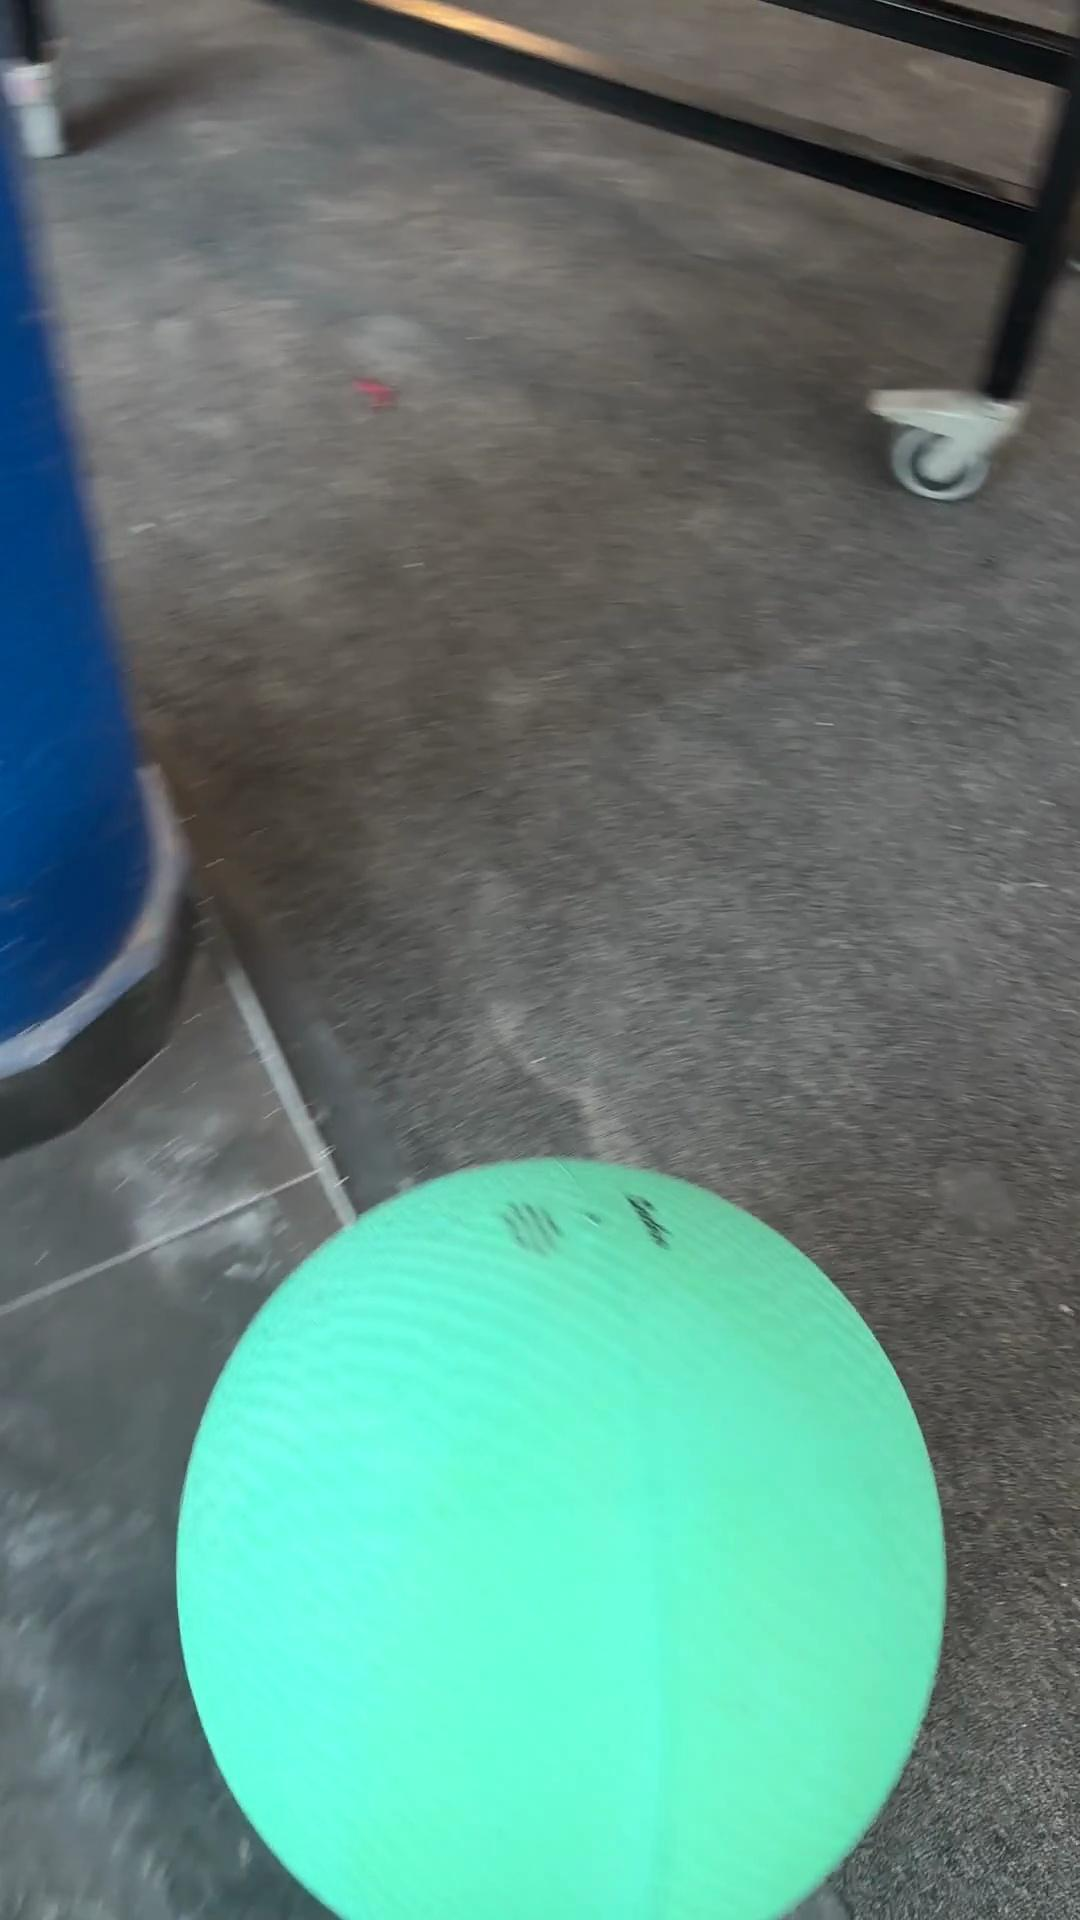ALGAE: (171, 1153, 949, 1916)
